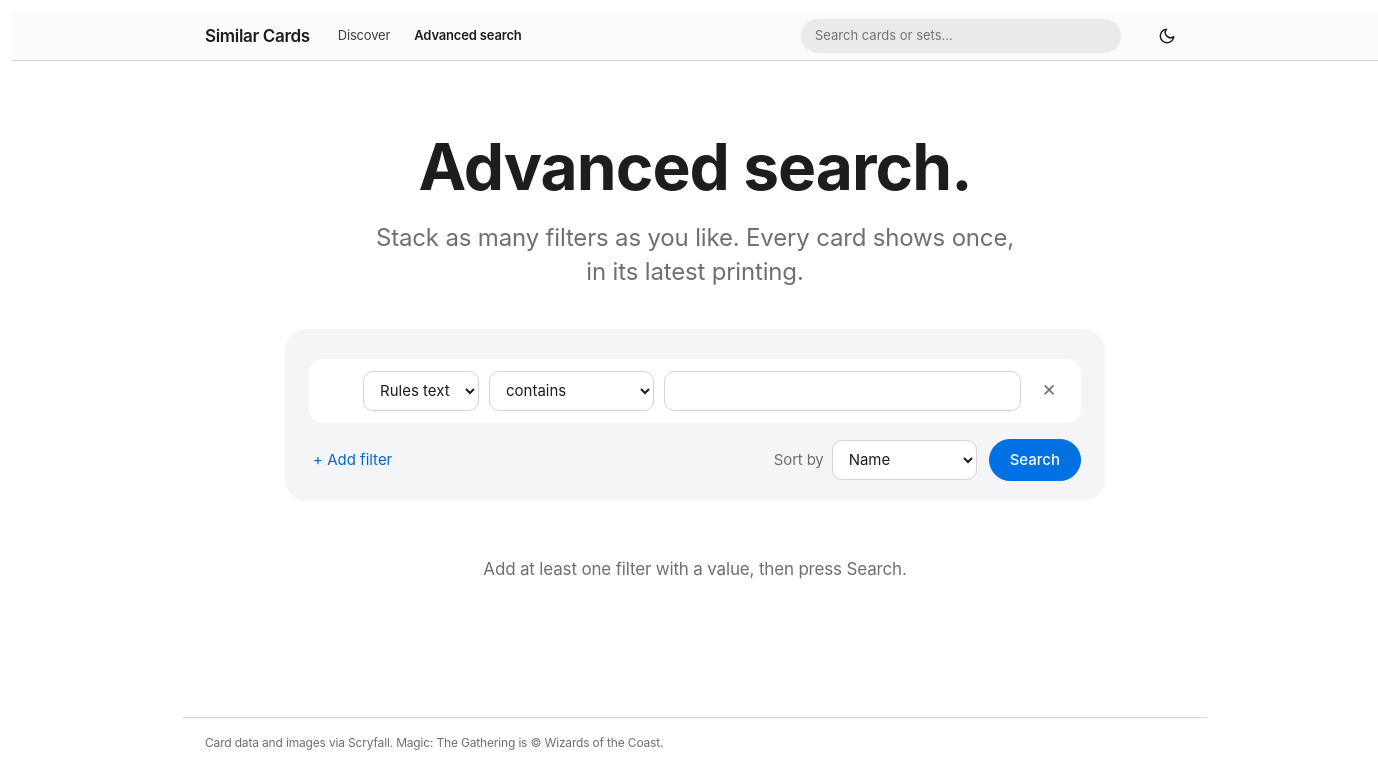
Scenario: AdvancedSearchPage › searches on Enter in a text input
This screenshot has width=1378, height=780.
Type "flying" into the field named "Value" at [842, 391], box x1=664 y1=371 x2=1021 y2=411
Then press Enter
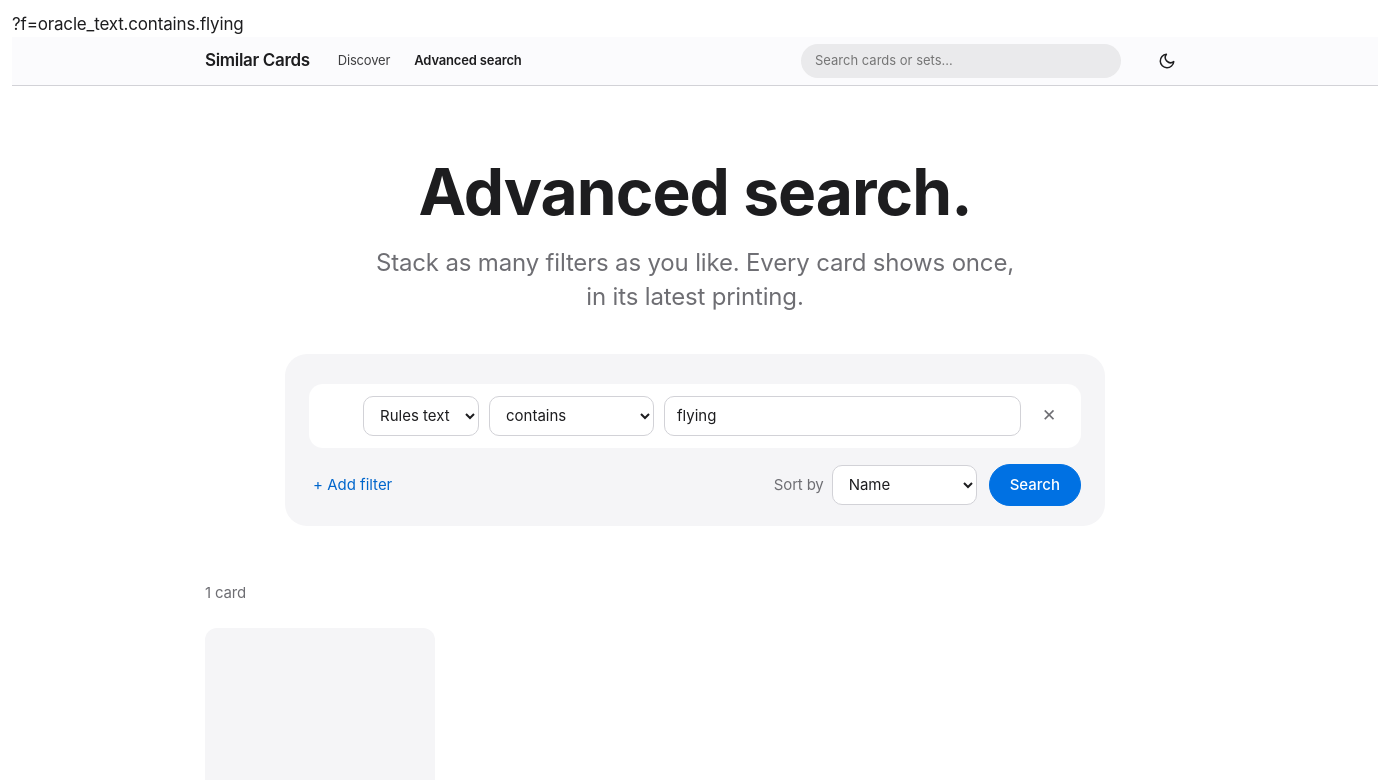
Result: the text with test id "loc" reads "?f=oracle_text.contains.flying" at x1=12 y1=14 x2=244 y2=34
